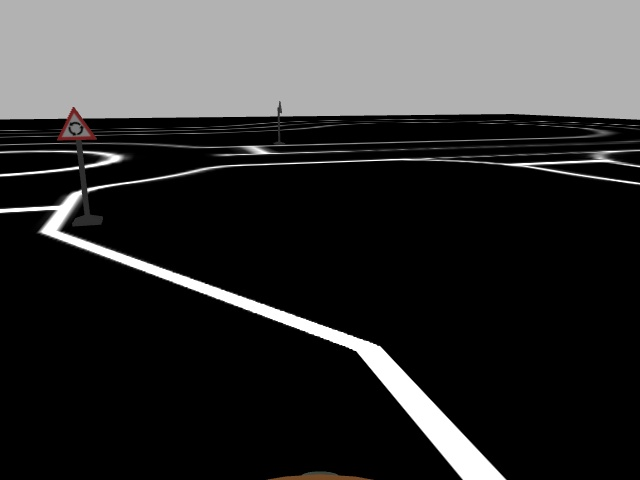roundabout: (55, 106, 97, 140)
